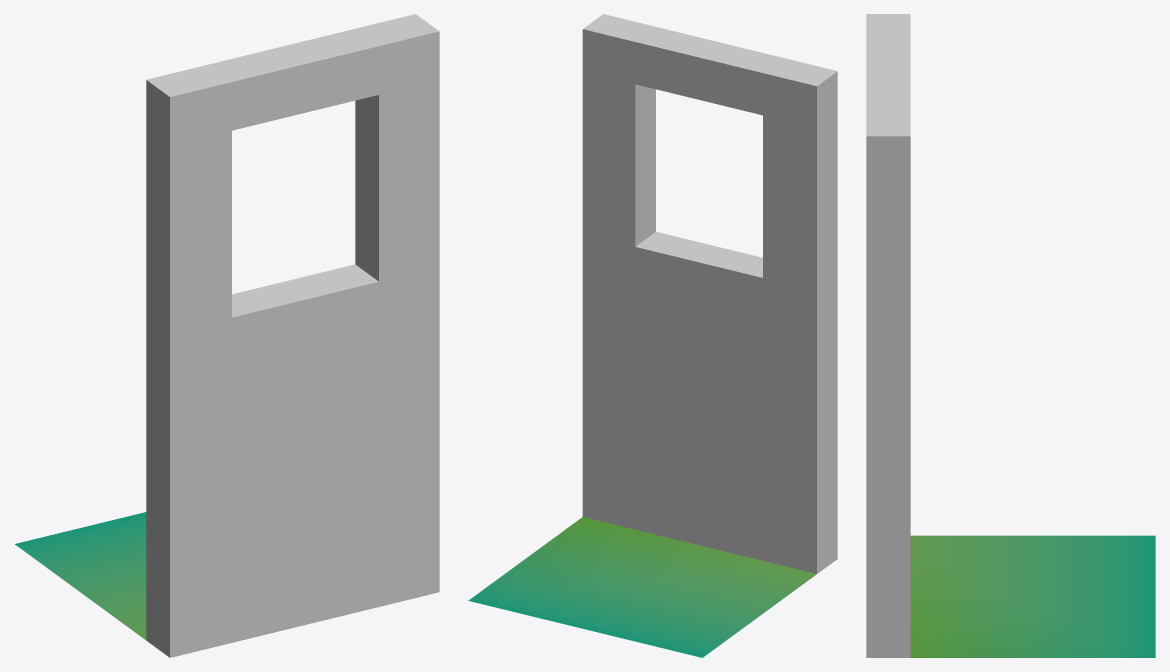
The model's file is wall_test.glb.
3 views of the same model, side by side, from view 1: azimuth 30°, elevation 25°; view 2: azimuth 150°, elevation 25°; view 3: azimuth 270°, elevation 25° (orthographic). The views are drawn at different scales.
Parts seen in each view (by area): view 1: Cube, Plane; view 2: Cube, Plane; view 3: Plane, Cube.
Part boxes in pixels (x1,y1,x2,y2): Cube: [146, 14, 439, 657]; Plane: [15, 512, 427, 656]; Cube: [582, 14, 837, 573]; Plane: [468, 517, 816, 657]; Plane: [910, 535, 1155, 657]; Cube: [866, 14, 910, 657].
Bounding box in the file's own units: 1 × 1.99 × 1.
